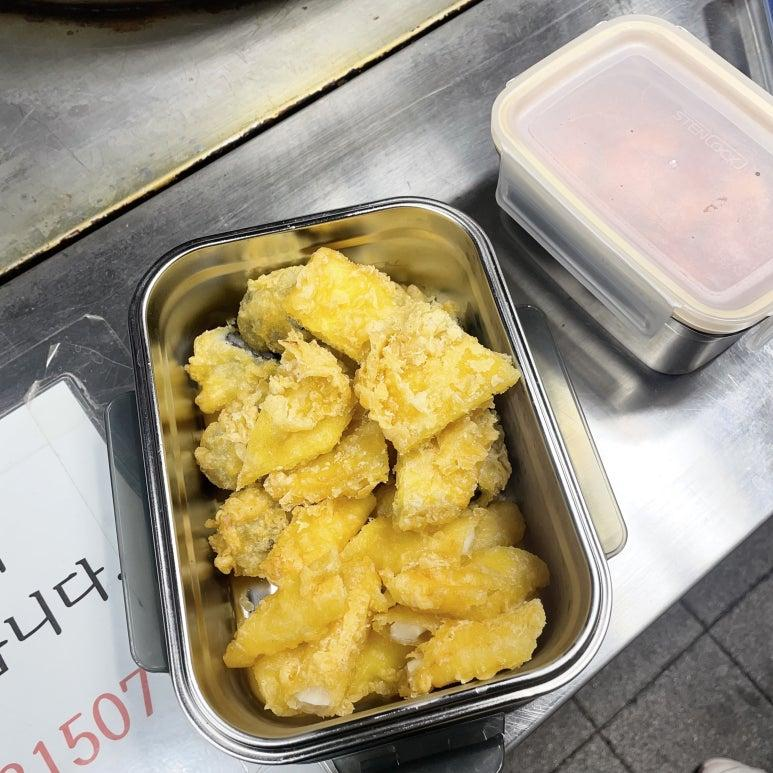Lunch Box: (105, 198, 626, 772)
